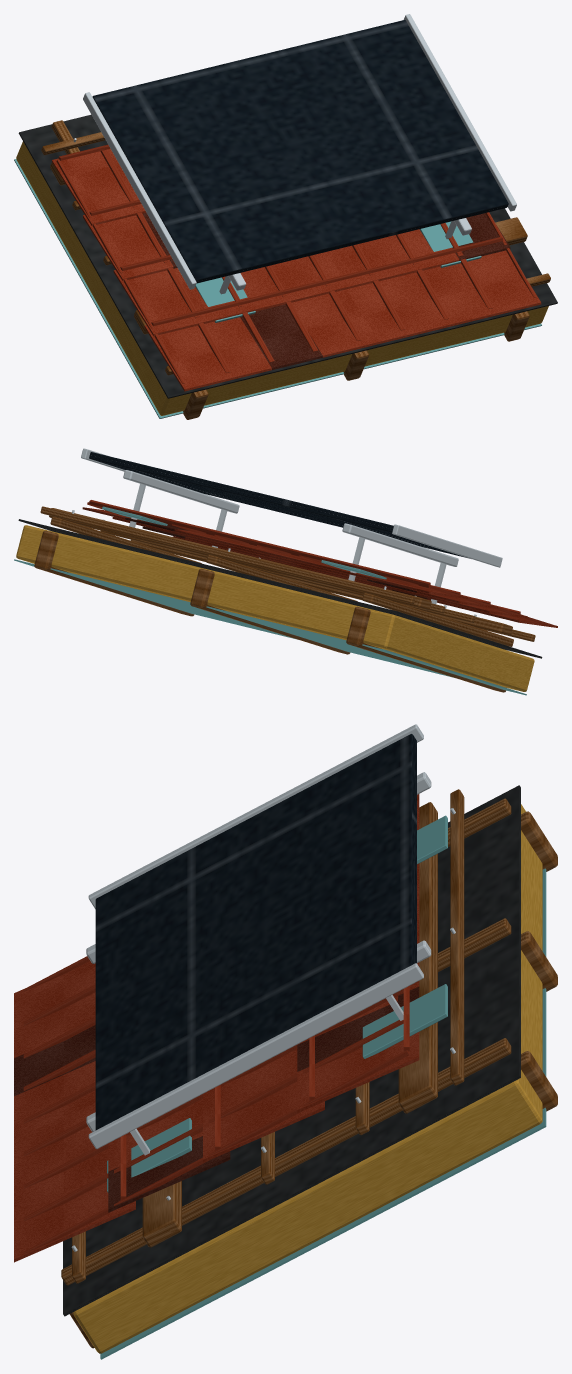
Rendered from modell.glb.
3 renders of one model, top to bottom at view 1: azimuth 30°, elevation 25°; view 2: azimuth 150°, elevation 25°; view 3: azimuth 270°, elevation 25°, orthographic. The views are drawn at different scales.
Visible parts, largest first — view 1: a01-modul_, a01-deckziegel_deckung, a01-daemmung_daemmung, a01-zusatzebene_zusatzebene, a01-deckziegel_deckung.001, a01-modul_.001, a01-luftdichtheit_luftdichtheit, a01-wetteranschluss_deckung, a01-sparren_tragwerk, a01-lattung_lattung, a01-befestigungsuntergrund_lattung; view 2: a01-daemmung_daemmung, a01-lattung_lattung, a01-deckziegel_deckung, a01-modul_, a01-sparren_tragwerk, a01-luftdichtheit_luftdichtheit, a01-befestigungsuntergrund_lattung, a01-zusatzebene_zusatzebene, a01-schiene_, a01-modul_.001, a01-halter_, a01-deckziegel_deckung.001 (+1 smaller); view 3: a01-modul_, a01-deckziegel_deckung, a01-zusatzebene_zusatzebene, a01-daemmung_daemmung, a01-lattung_lattung, a01-modul_.001, a01-befestigungsuntergrund_lattung, a01-deckziegel_deckung.001, a01-wetteranschluss_deckung, a01-luftdichtheit_luftdichtheit, a01-sparren_tragwerk, a01-schiene_.
Boxes of the visible parts, x1,y1,x2,y2 form: a01-modul_: [92, 20, 508, 283]; a01-deckziegel_deckung: [52, 144, 541, 391]; a01-daemmung_daemmung: [16, 141, 548, 415]; a01-zusatzebene_zusatzebene: [18, 114, 557, 398]; a01-deckziegel_deckung.001: [142, 212, 510, 369]; a01-modul_.001: [83, 14, 516, 289]; a01-luftdichtheit_luftdichtheit: [14, 159, 541, 418]; a01-wetteranschluss_deckung: [195, 221, 481, 322]; a01-sparren_tragwerk: [183, 311, 529, 419]; a01-lattung_lattung: [41, 120, 550, 375]; a01-befestigungsuntergrund_lattung: [50, 162, 527, 334]; a01-daemmung_daemmung: [16, 525, 534, 691]; a01-lattung_lattung: [40, 506, 535, 646]; a01-deckziegel_deckung: [82, 500, 557, 627]; a01-modul_: [89, 452, 469, 558]; a01-sparren_tragwerk: [34, 530, 505, 692]; a01-luftdichtheit_luftdichtheit: [14, 559, 526, 695]; a01-befestigungsuntergrund_lattung: [49, 508, 512, 635]; a01-zusatzebene_zusatzebene: [18, 519, 542, 658]; a01-schiene_: [123, 470, 458, 566]; a01-modul_.001: [81, 448, 502, 567]; a01-halter_: [129, 483, 446, 604]; a01-deckziegel_deckung.001: [125, 517, 430, 599]; a01-modul_: [95, 734, 416, 1130]; a01-deckziegel_deckung: [14, 794, 419, 1262]; a01-zusatzebene_zusatzebene: [63, 785, 520, 1316]; a01-daemmung_daemmung: [73, 804, 542, 1353]; a01-lattung_lattung: [61, 789, 511, 1285]; a01-modul_.001: [88, 724, 423, 1149]; a01-befestigungsuntergrund_lattung: [142, 802, 437, 1247]; a01-deckziegel_deckung.001: [14, 986, 419, 1212]; a01-wetteranschluss_deckung: [107, 815, 447, 1192]; a01-luftdichtheit_luftdichtheit: [100, 868, 546, 1359]; a01-sparren_tragwerk: [69, 811, 557, 1348]; a01-schiene_: [86, 772, 431, 1131].
Size of the model in its own units: 2.14 by 1.3 by 1.69.
8 materials, 6 textured.
